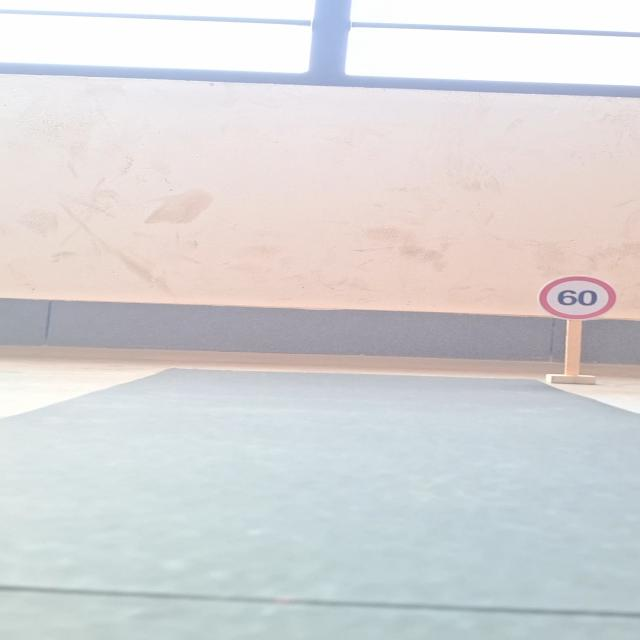Speed60: (534, 274, 618, 322)
